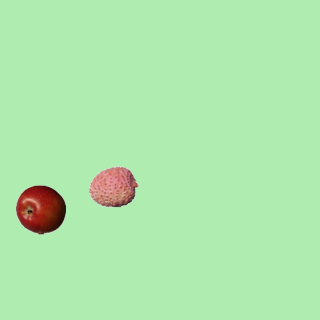Apple Braeburn: (15, 184, 65, 234)
Lychee: (88, 161, 138, 211)
